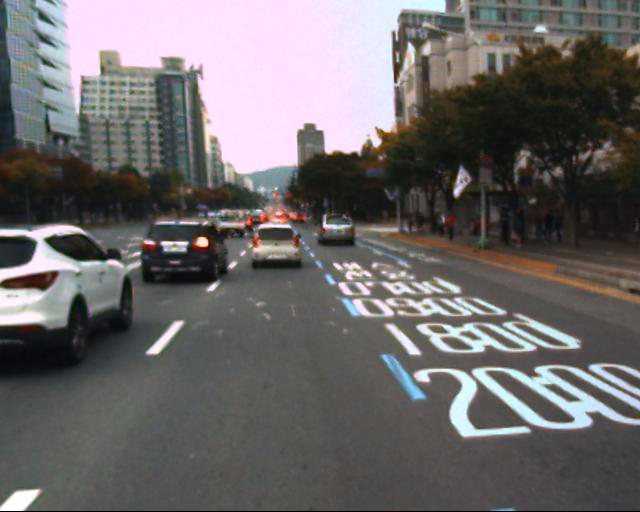person: (490, 205, 517, 253), (510, 205, 535, 253), (538, 203, 562, 252), (550, 203, 572, 253)
